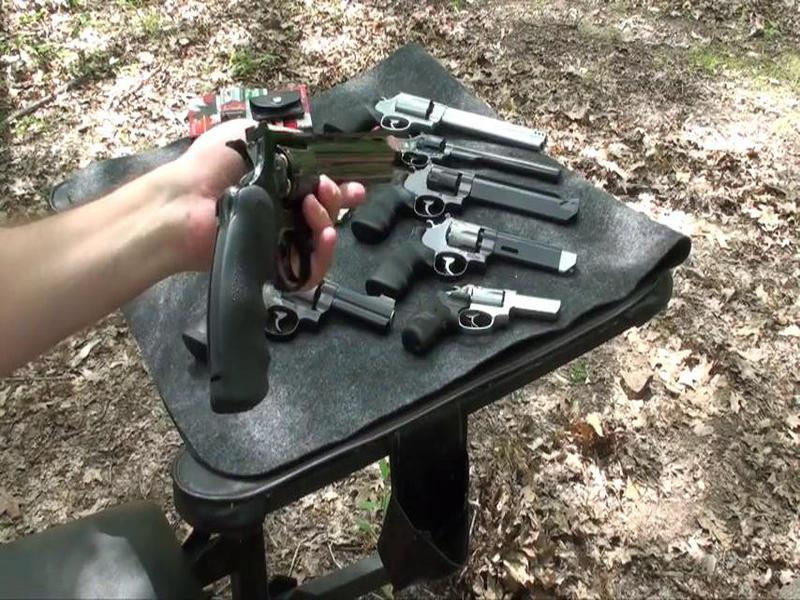Revolver: (199, 118, 400, 413), (406, 279, 565, 353)
